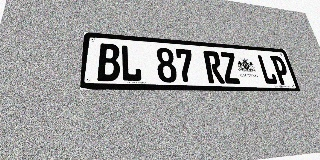7: (174, 48, 196, 83)
8: (155, 47, 178, 83)
B: (97, 43, 120, 81)
L: (120, 45, 142, 82), (256, 54, 278, 84)
P: (270, 55, 292, 85)
R: (203, 51, 225, 83)
Z: (219, 52, 241, 84)
